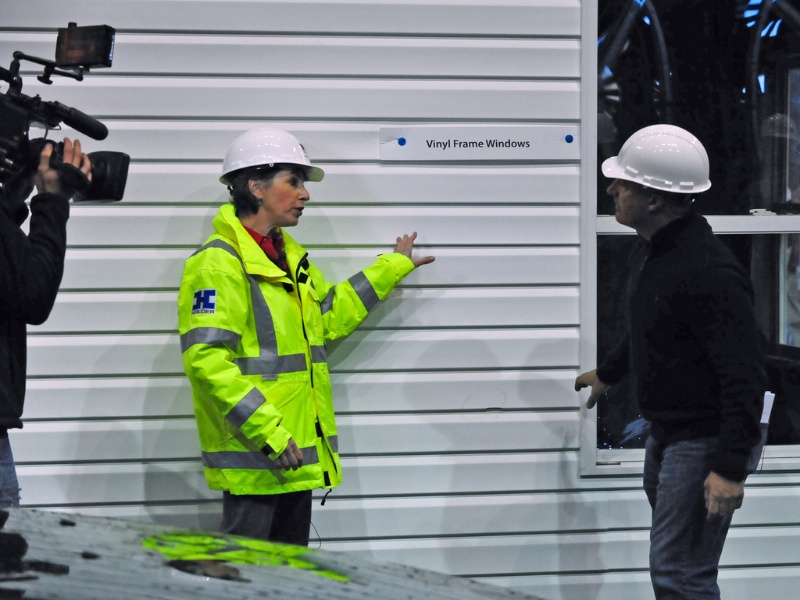Baret: (601, 124, 711, 192), (221, 125, 322, 181)
